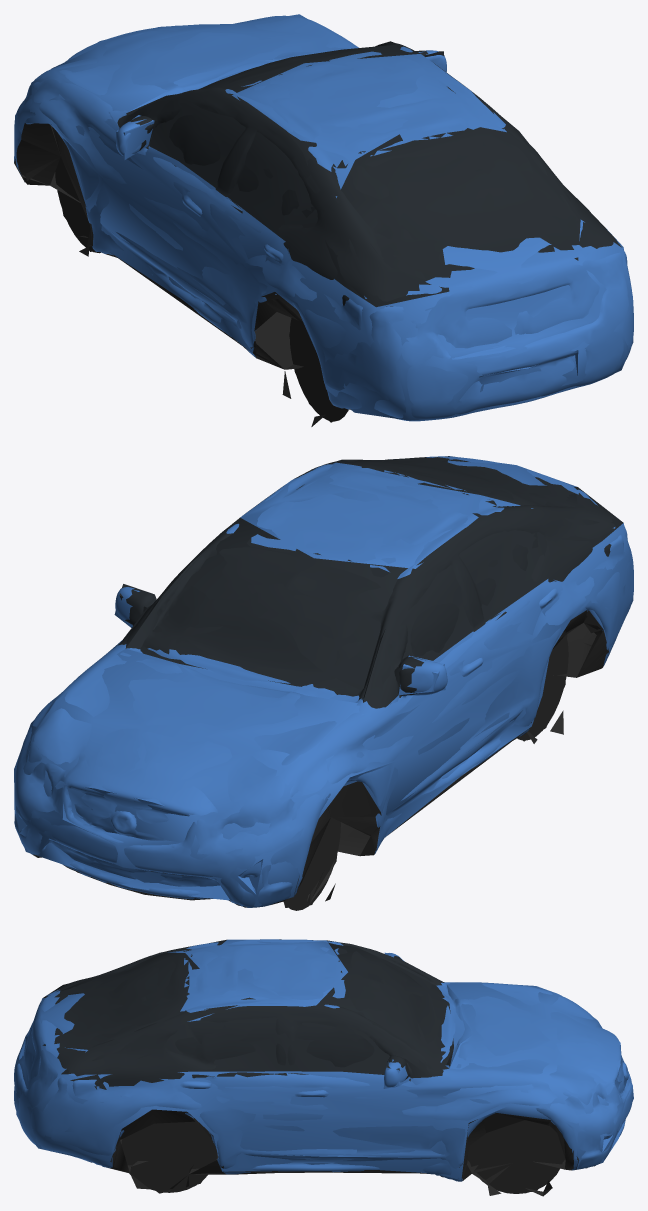
File: infiniti-m37.glb
The picture shows the model from 3 angles, top to bottom: view 1: azimuth 30°, elevation 25°; view 2: azimuth 150°, elevation 25°; view 3: azimuth 270°, elevation 25°; orthographic projection. The views are drawn at different scales.
Visible parts, largest first — view 1: body, far; view 2: body, far; view 3: body, far.
Boxes of the visible parts, left/top/right/bottom form: body: left=14, top=15, right=633, bottom=426; far: left=14, top=14, right=633, bottom=422; body: left=14, top=456, right=633, bottom=910; far: left=14, top=456, right=633, bottom=907; body: left=14, top=939, right=632, bottom=1196; far: left=16, top=939, right=633, bottom=1193.
Size of the model in its own units: 2.33 by 1.69 by 5.1.
